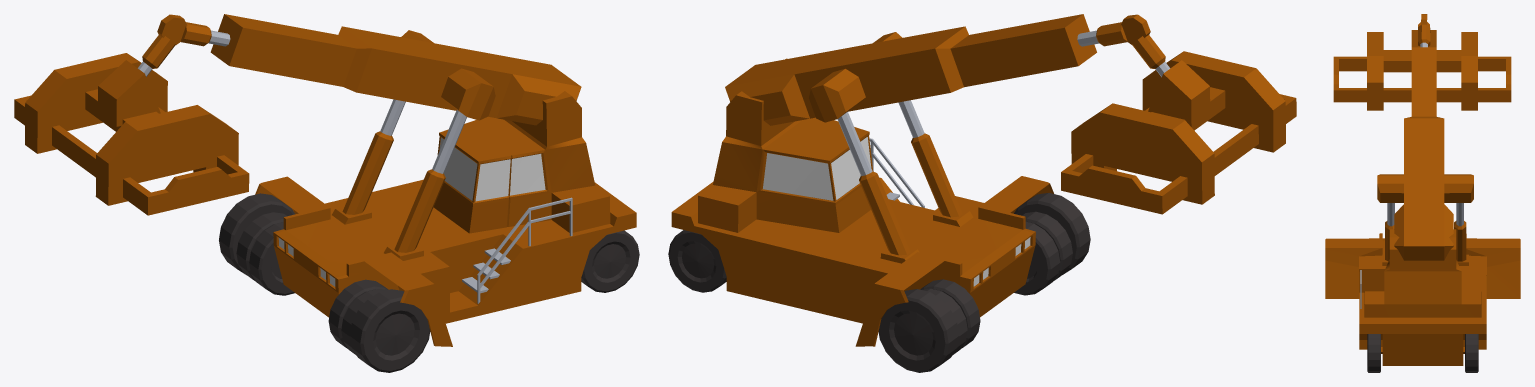
The model's file is ContainerLift.fbx.
The picture shows the model from 3 angles, left to right: view 1: azimuth 30°, elevation 25°; view 2: azimuth 150°, elevation 25°; view 3: azimuth 270°, elevation 25°; orthographic projection. The views are drawn at different scales.
Visible parts, largest first — view 1: ContainerLift, ContainerLift_Glass; view 2: ContainerLift, ContainerLift_Glass; view 3: ContainerLift.
Part boxes in pixels (x1=…): ContainerLift: x1=14, y1=14, x2=639, y2=372; ContainerLift_Glass: x1=439, y1=137, x2=545, y2=201; ContainerLift: x1=668, y1=14, x2=1296, y2=372; ContainerLift_Glass: x1=763, y1=137, x2=871, y2=200; ContainerLift: x1=1325, y1=14, x2=1520, y2=372.
Size of the model in its own units: 14.73 by 9.03 by 7.03.
